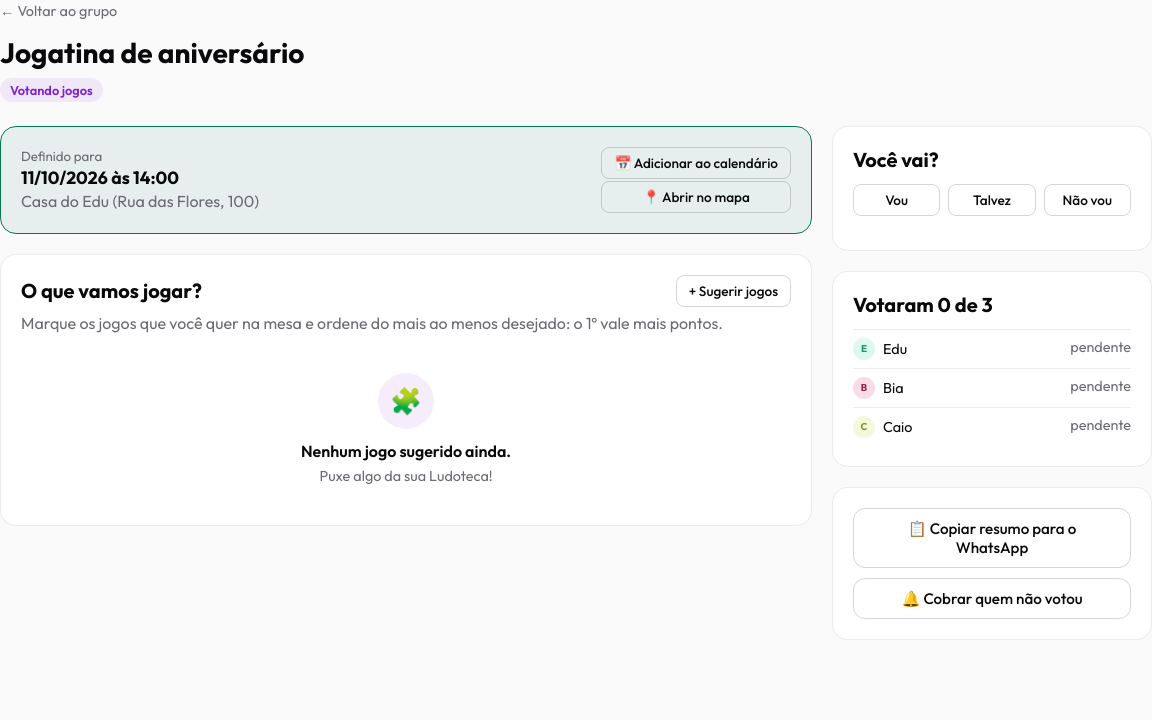
Evento — sugerir jogos da ludoteca › filtra pelo número de jogadores e pela duração
Click the button "+ Sugerir jogos".
click(733, 291)  # box [676, 275, 791, 307]
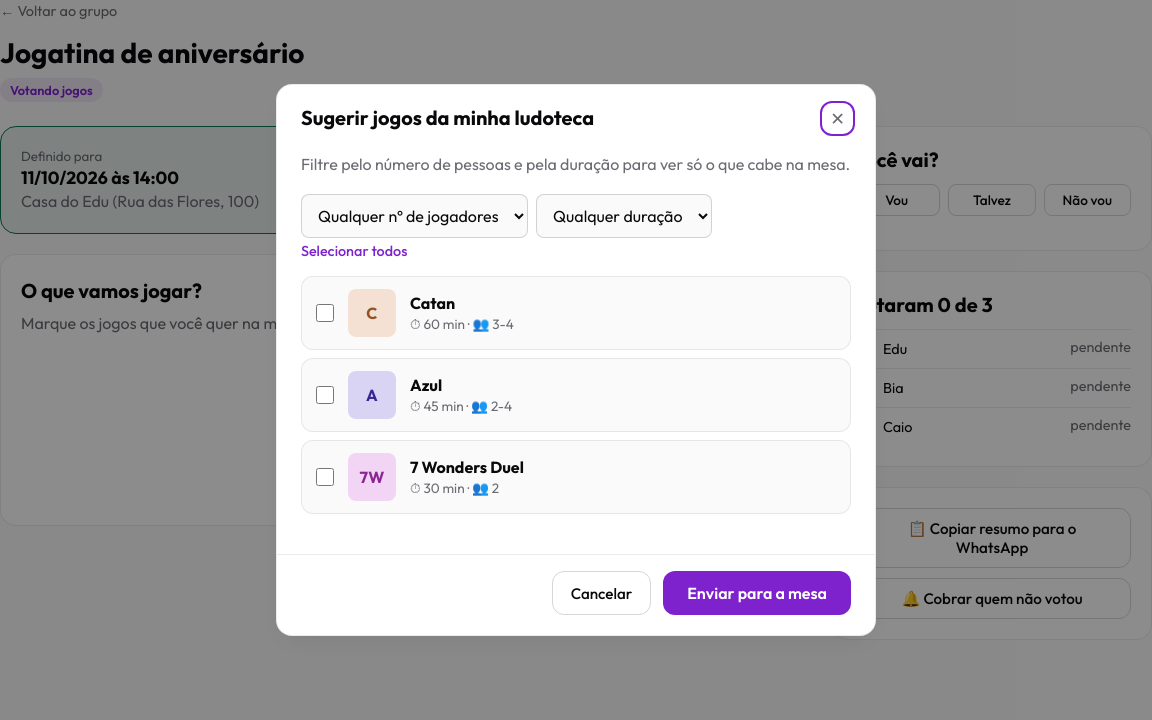
Check: the text "Catan" is shown, box [410, 293, 455, 313]
Select "2 jogadores" in the dropdown named "Jogadores" at (414, 216), box [301, 194, 528, 238]
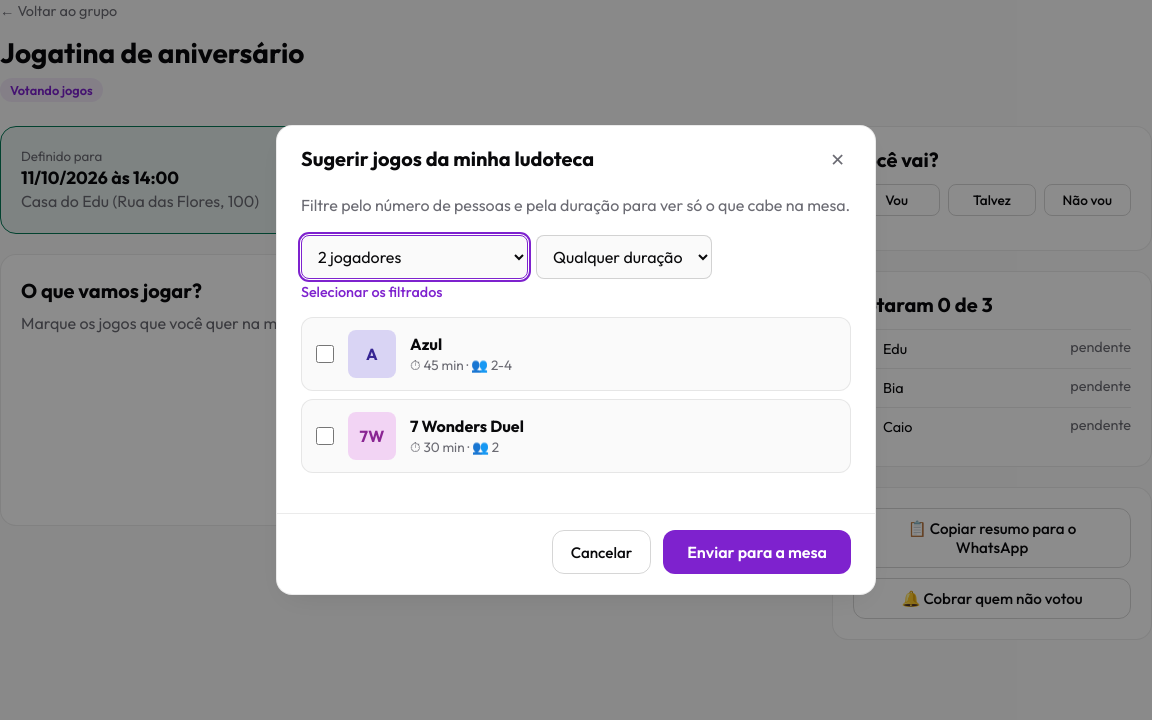
Check: the text "Catan" is gone
Select "Até 30 min" in the dropdown named "Duração" at (624, 257), box [536, 235, 712, 279]
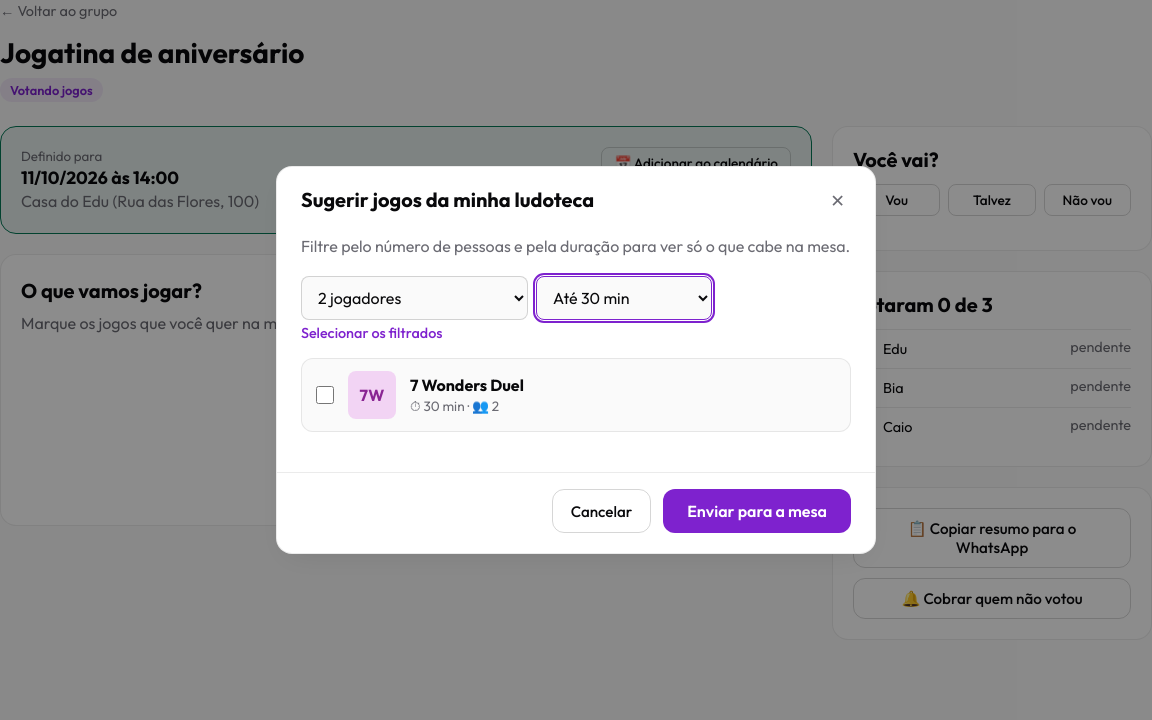
Check: the text "7 Wonders Duel" is shown, box [410, 375, 524, 395]
Check: the text "Azul" is gone
Select "8 jogadores" in the dropdown named "Jogadores" at (414, 298), box [301, 276, 528, 320]
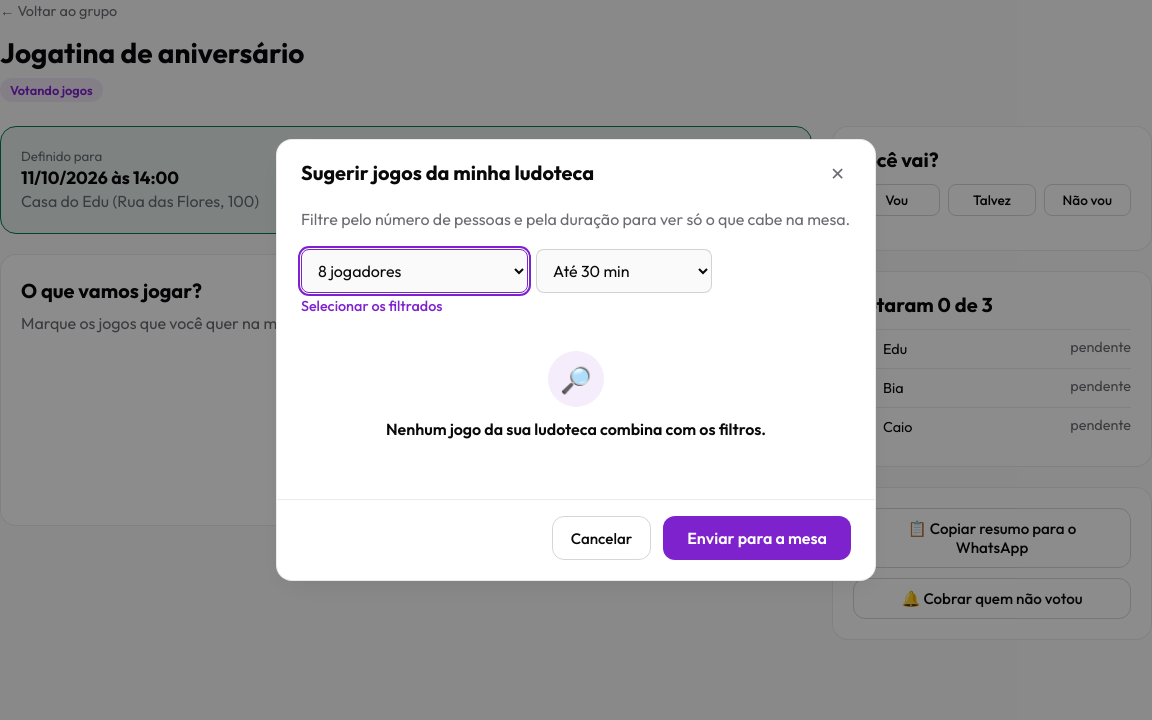
Check: the text "Nenhum jogo da sua ludoteca combina com os filtros." is shown, box [386, 419, 766, 439]
